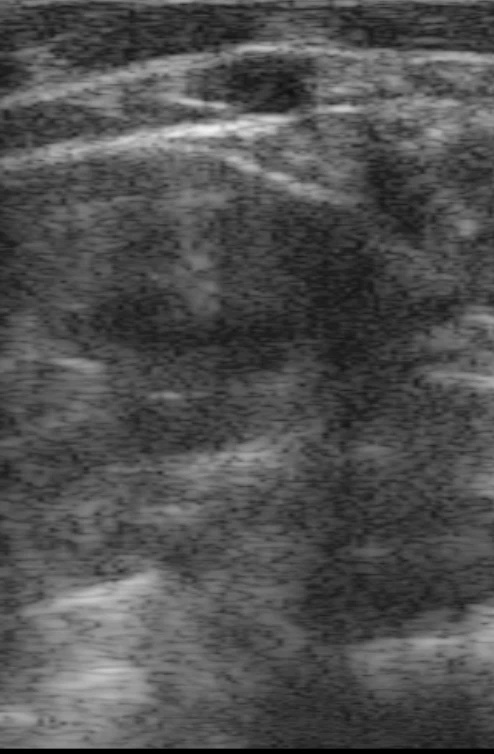veins_detect: (189, 41, 330, 127)
veins_seg: (196, 54, 319, 119)
